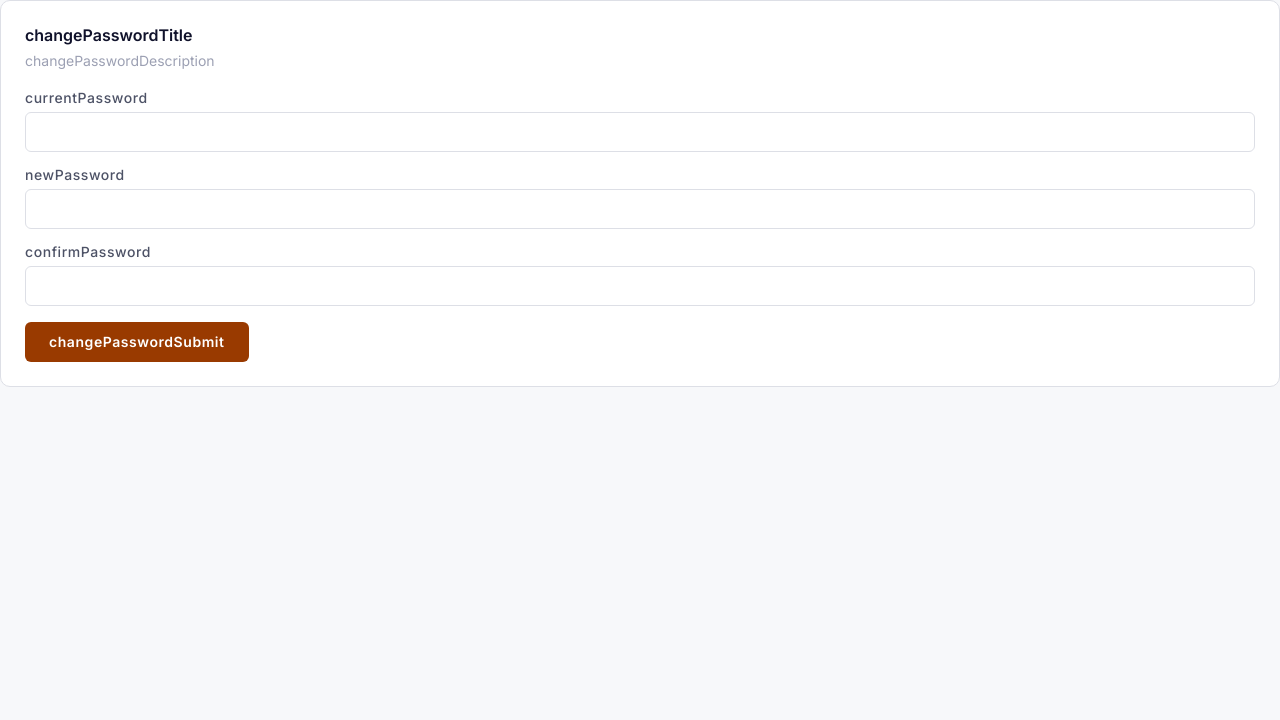
ChangePasswordForm › shows 'current password incorrect' error on 400 with matching message
The width and height of the screenshot is (1280, 720).
In the password field labelled "currentPassword": (640, 132) left=25, top=112, right=1255, bottom=152, type "WrongOld1!"
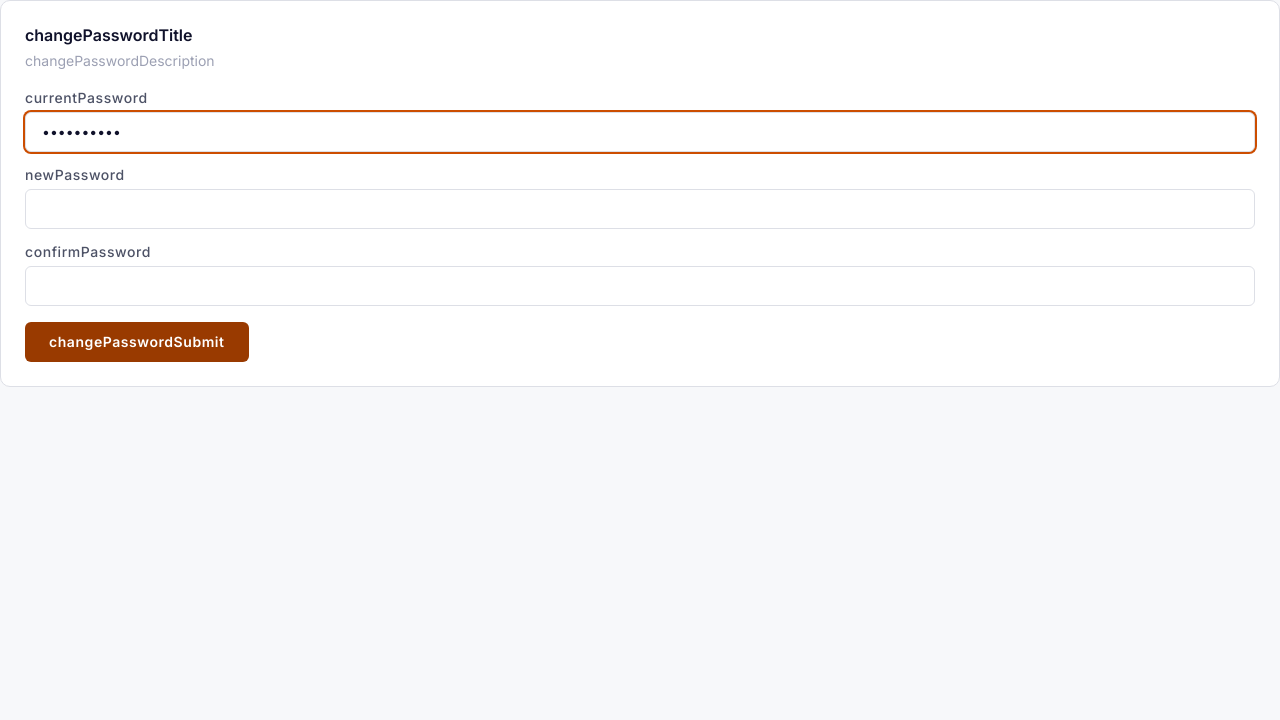
In the password field labelled "newPassword": (640, 209) left=25, top=189, right=1255, bottom=229, type "SecurePass1!"
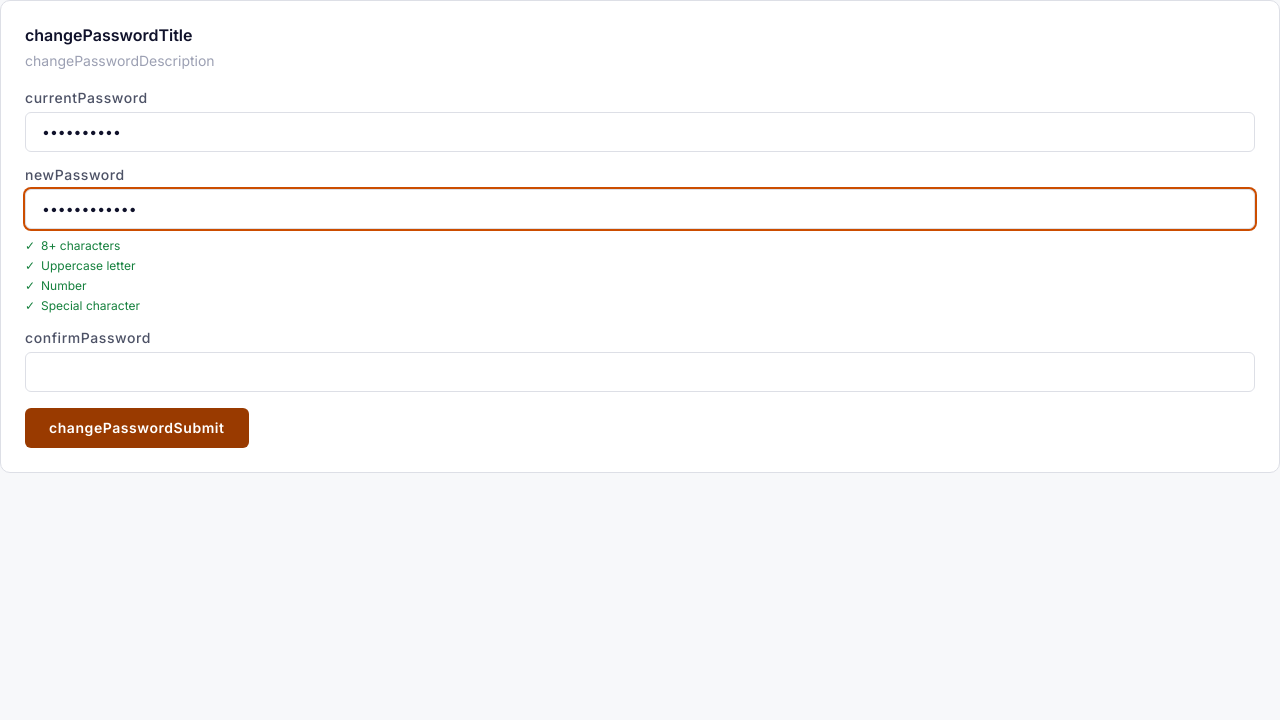
In the password field labelled "confirmPassword": (640, 372) left=25, top=352, right=1255, bottom=392, type "SecurePass1!"
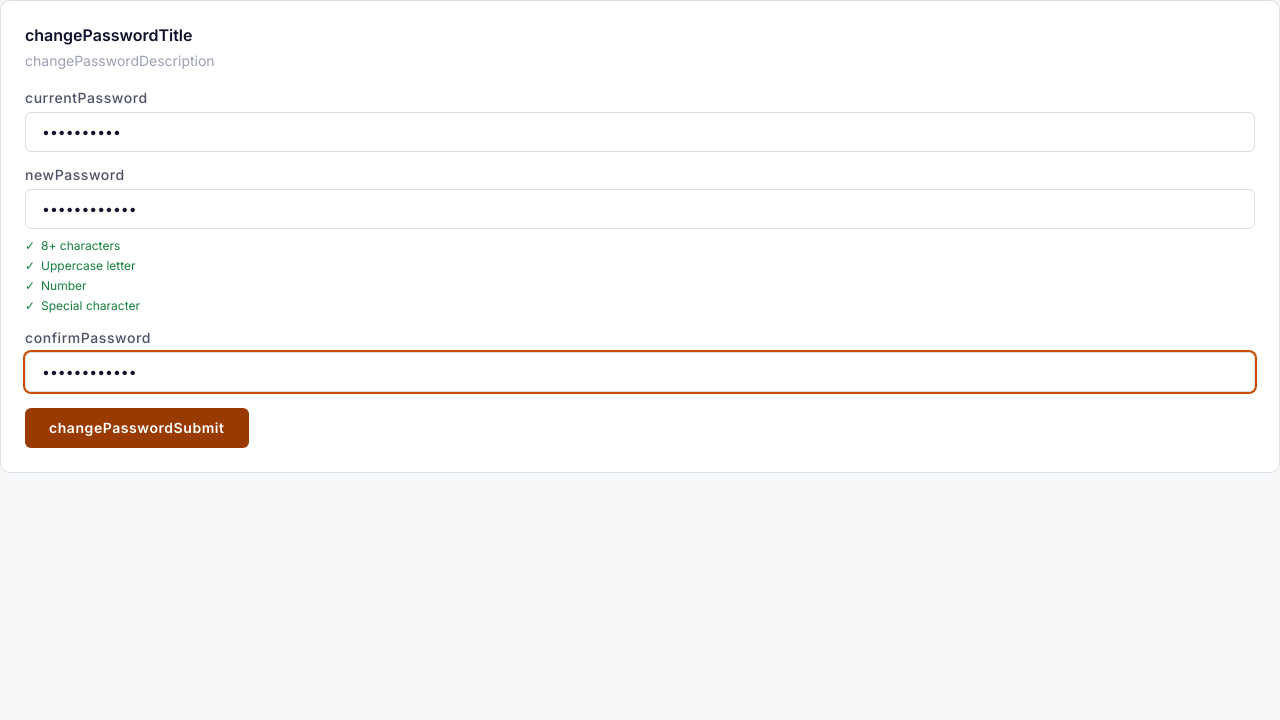
Click the button "changePasswordSubmit": (137, 428) left=25, top=408, right=249, bottom=448
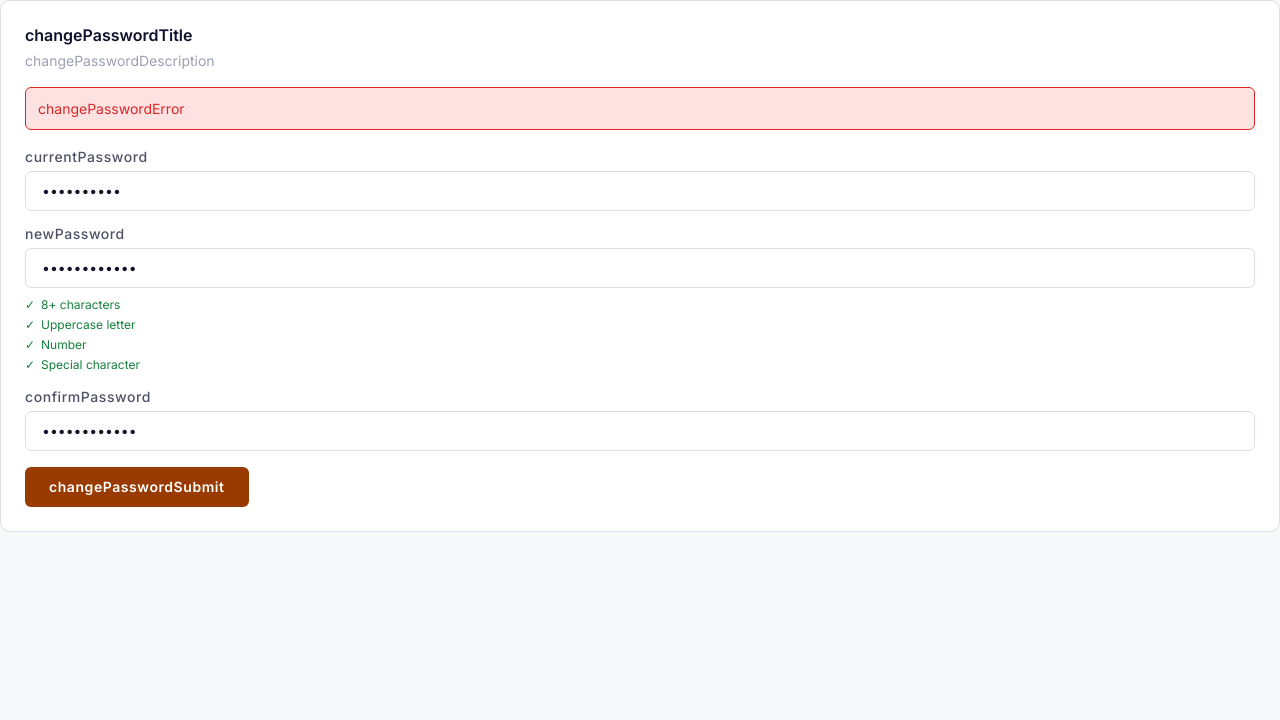
Check: the text "changePasswordError" is shown, box left=25, top=87, right=1255, bottom=130
